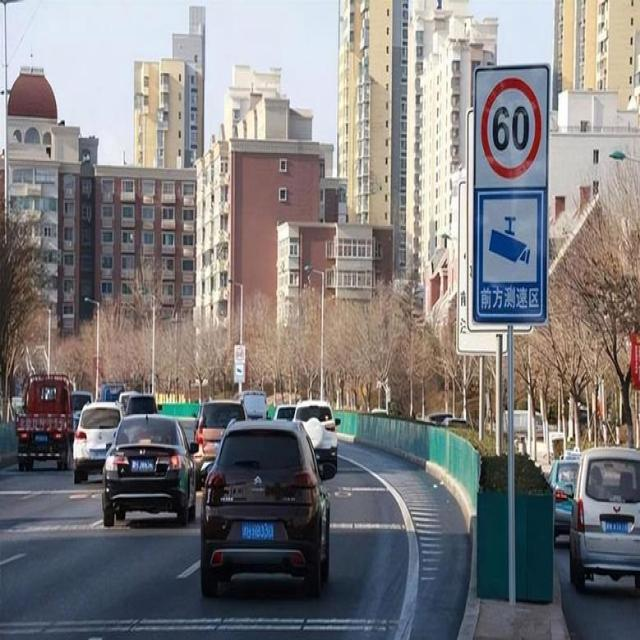speed limit 60: (481, 77, 542, 179)
